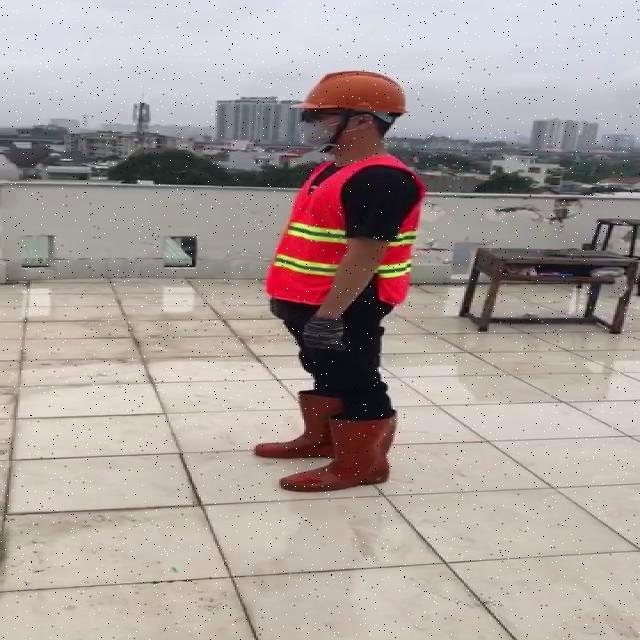Hard_hat: (289, 66, 418, 128)
Vest: (263, 153, 424, 312)
